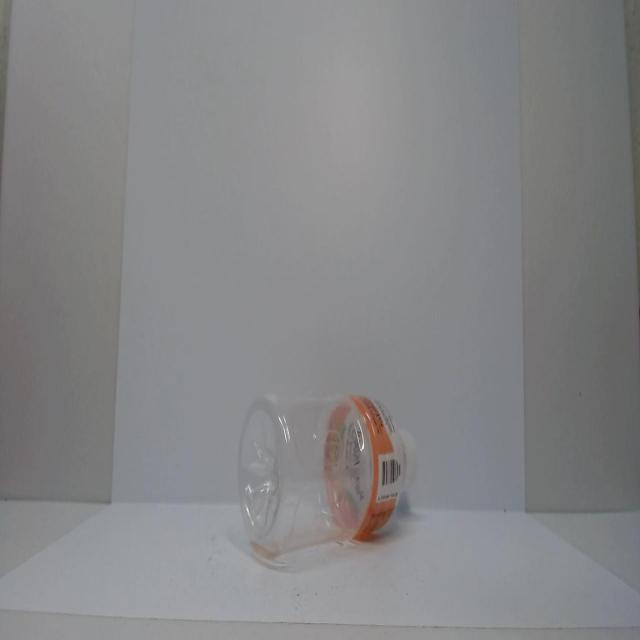bottle: (223, 378, 430, 556)
